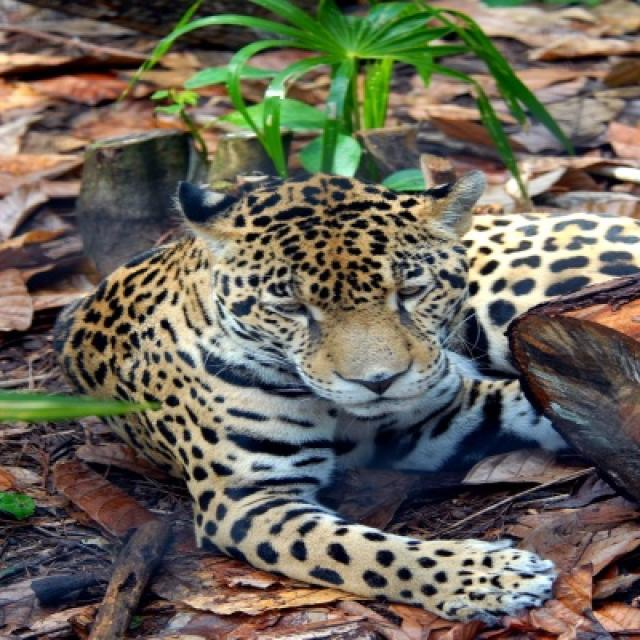Jaguar: (58, 171, 552, 629)
